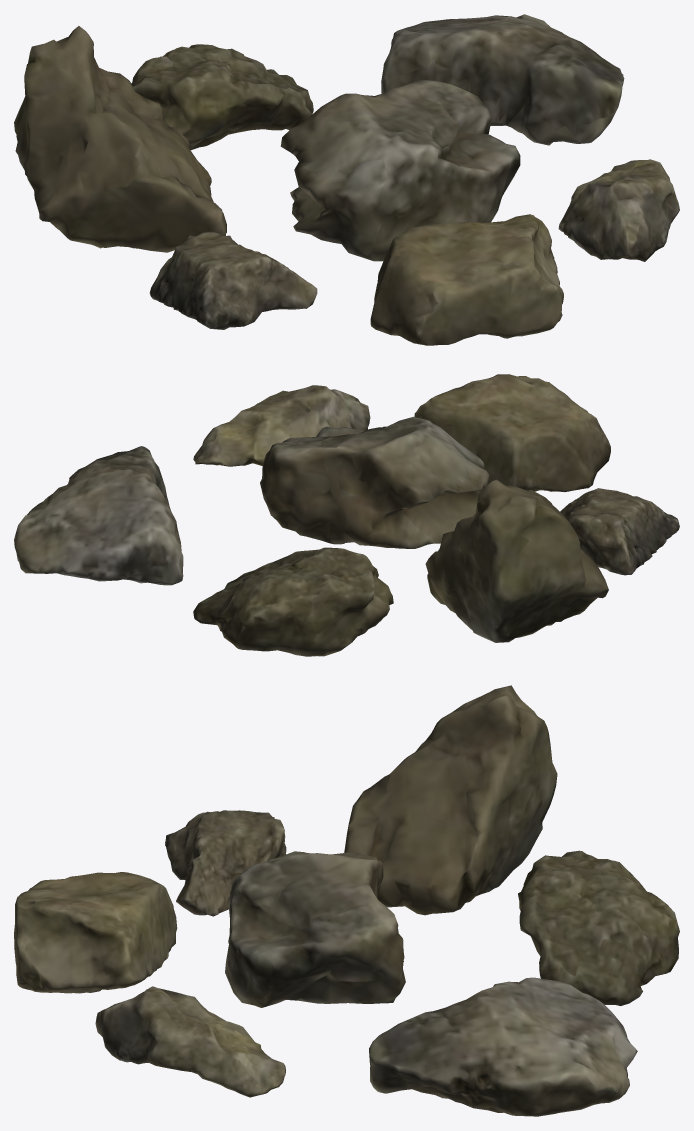
The model's file is small_rocks.glb.
3 renders of one model, top to bottom at view 1: azimuth 30°, elevation 25°; view 2: azimuth 150°, elevation 25°; view 3: azimuth 270°, elevation 25°, orthographic. The views are drawn at different scales.
Visible parts, largest first — view 1: rock_big_2, rock_big_1, rock_medium_1, rock_big_3, rock_big_4, rock_medium_2, rock_medium_3; view 2: rock_big_1, rock_big_2, rock_big_3, rock_big_4, rock_medium_1, rock_medium_3, rock_medium_2; view 3: rock_big_2, rock_big_3, rock_big_1, rock_big_4, rock_medium_1, rock_medium_3, rock_medium_2.
Part boxes in pixels (x1,y1,x2,y2): rock_big_2: (14, 26, 226, 252); rock_big_1: (280, 79, 520, 261); rock_medium_1: (370, 214, 563, 345); rock_big_3: (381, 14, 624, 145); rock_big_4: (131, 44, 313, 150); rock_medium_2: (149, 231, 317, 329); rock_medium_3: (558, 159, 679, 261); rock_big_1: (260, 416, 489, 548); rock_big_2: (425, 479, 608, 642); rock_big_3: (14, 446, 183, 585); rock_big_4: (193, 547, 393, 656); rock_medium_1: (414, 374, 610, 492); rock_medium_3: (193, 385, 370, 466); rock_medium_2: (560, 488, 679, 575); rock_big_2: (344, 685, 557, 915); rock_big_3: (369, 977, 637, 1116); rock_big_1: (225, 851, 405, 1007); rock_big_4: (518, 850, 679, 1005); rock_medium_1: (14, 872, 177, 993); rock_medium_3: (95, 986, 285, 1097); rock_medium_2: (165, 810, 286, 916).
Bounding box in the file's own units: 1.35 × 0.4107 × 1.33.
Materials: 1 (1 with a texture image).
